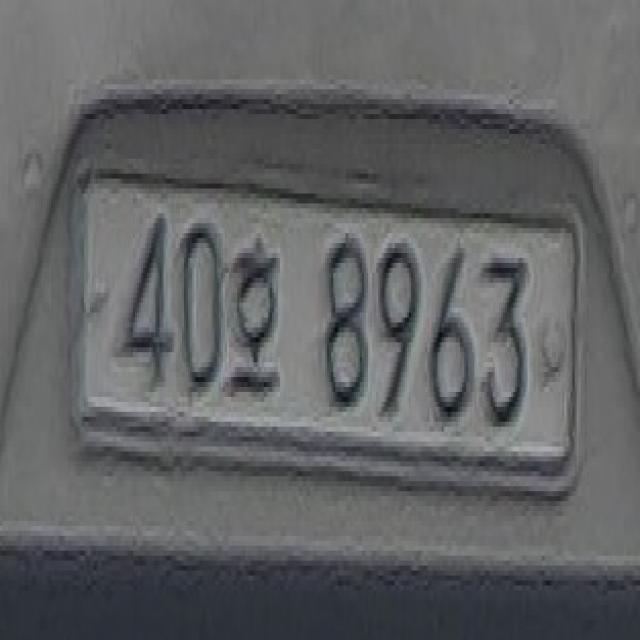0: (180, 213, 221, 402)
3: (478, 248, 528, 432)
4: (120, 208, 173, 402)
6: (424, 238, 474, 427)
8: (323, 228, 368, 417)
9: (372, 243, 419, 422)
ho: (229, 228, 280, 402)
license_plate: (70, 164, 580, 486)
